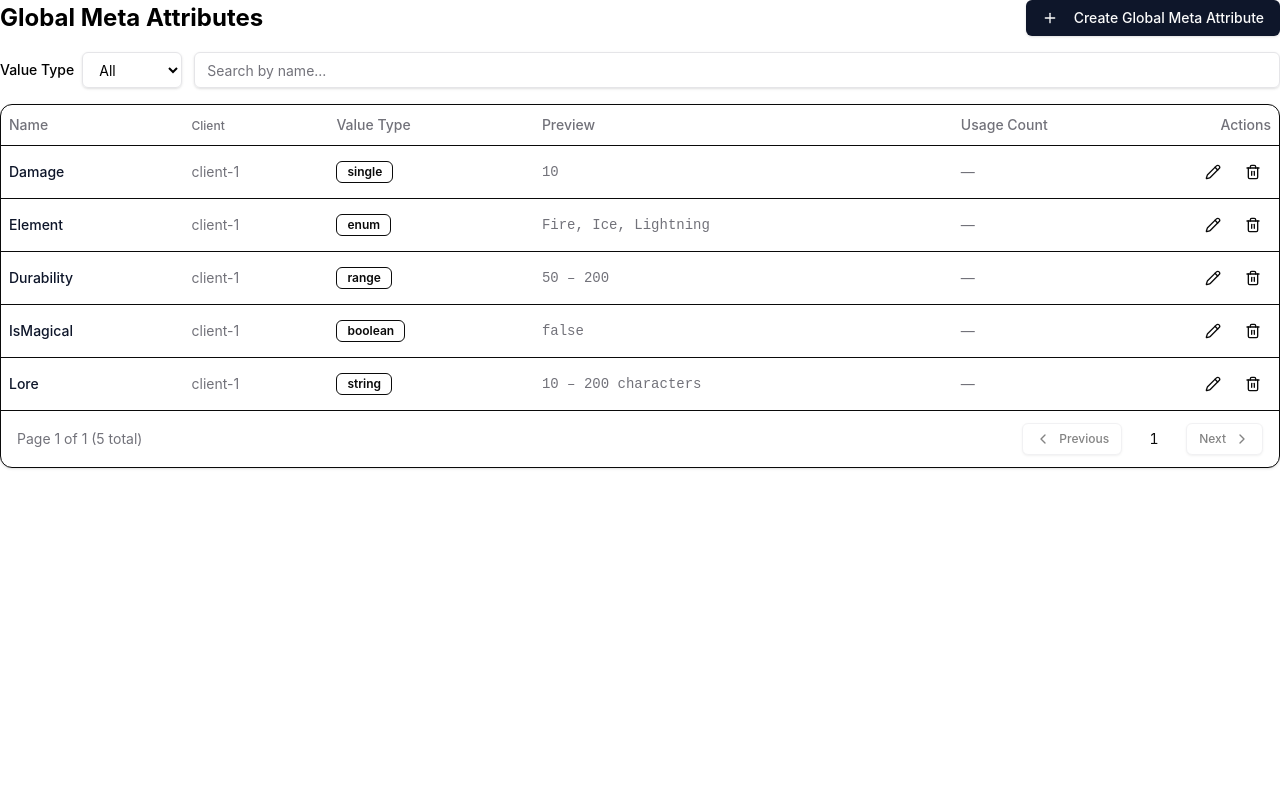
GlobalMetaAttributes list page › edit dialog shows pre-filled fields for range type with min/max
This screenshot has width=1280, height=800.
What coordinates should you click on to do the following:
click the button named "Edit Durability"
I would click on:
 (1213, 278)
Its box is [1195, 260, 1231, 296].
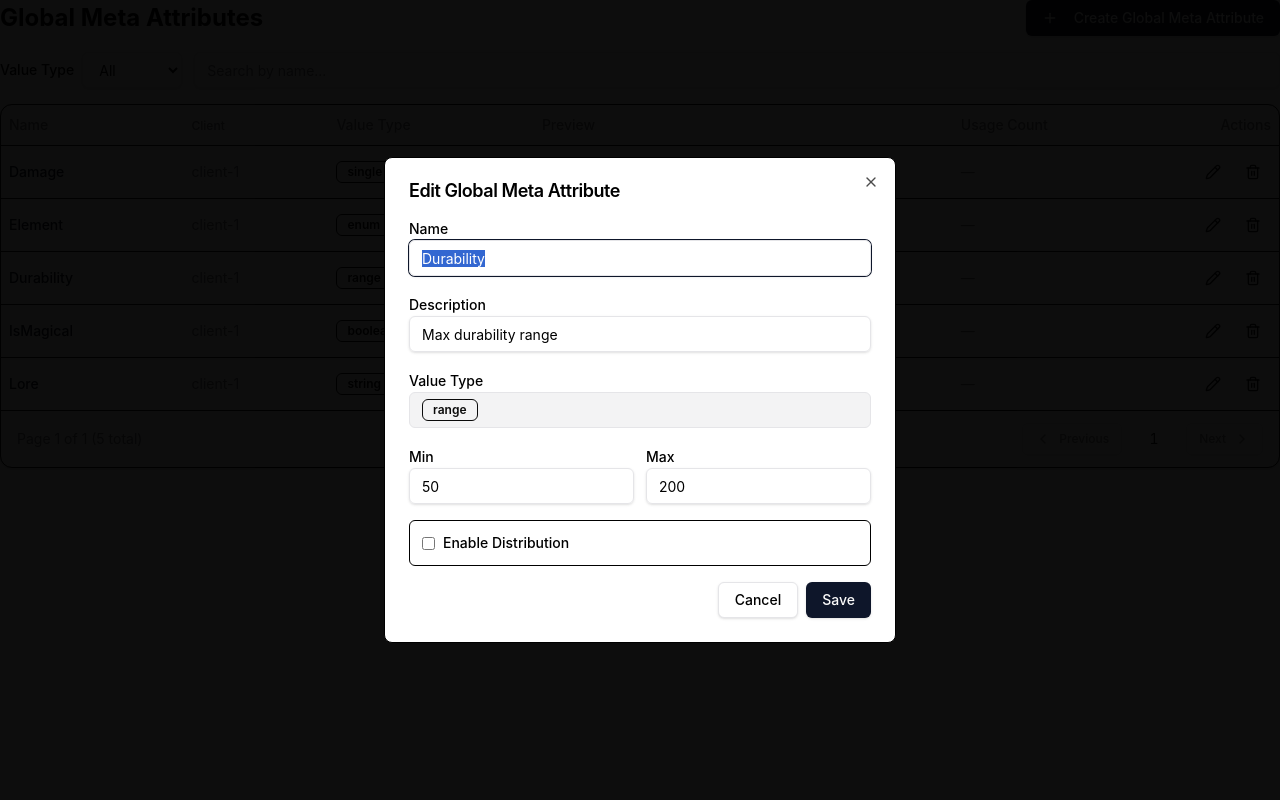
Now the text "range" is shown, box [422, 399, 478, 421]
Now the number field labelled "Min" holds "50", box [409, 468, 634, 504]
Now the number field labelled "Max" holds "200", box [646, 468, 871, 504]
